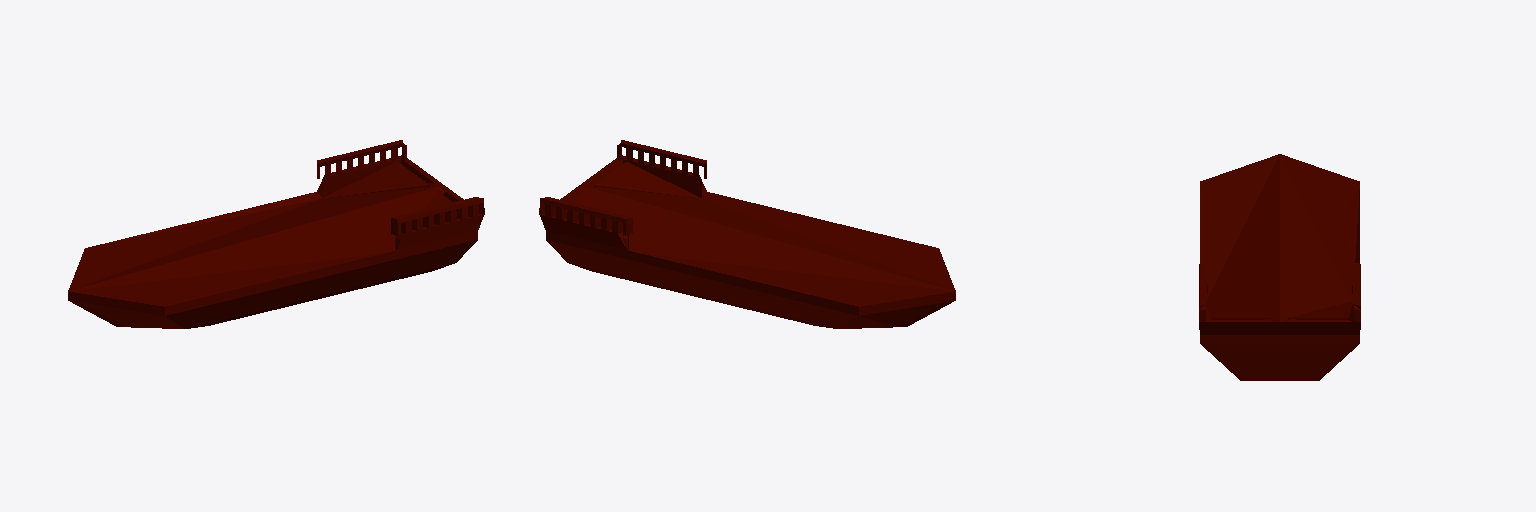
The model's file is barco.obj.
3 views of the same model, side by side, from view 1: azimuth 30°, elevation 25°; view 2: azimuth 150°, elevation 25°; view 3: azimuth 270°, elevation 25° (orthographic).
Parts seen in each view (by area): view 1: Cube; view 2: Cube; view 3: Cube.
Boxes of the visible parts, x1,y1,x2,y2 form: Cube: [68, 140, 484, 328]; Cube: [539, 140, 955, 328]; Cube: [1199, 154, 1360, 380].
Bounding box in the file's own units: 12.4 × 2.61 × 4.65.